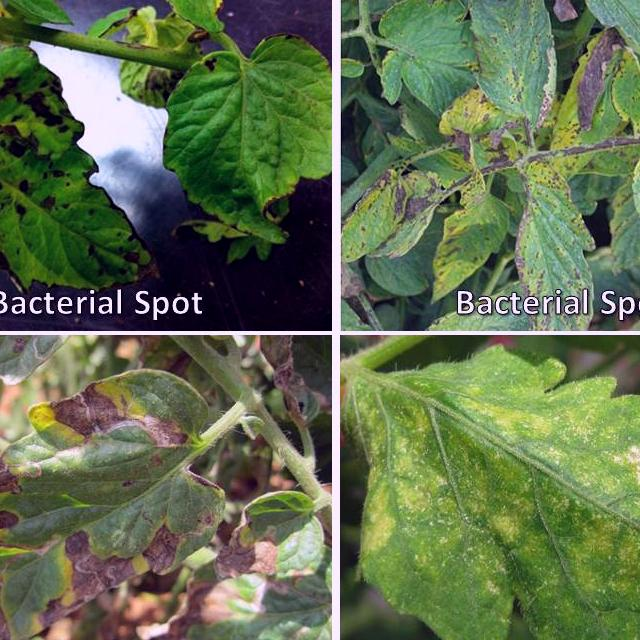Tomato leaf bacterial spot: (0, 363, 242, 640), (153, 22, 332, 286), (0, 34, 163, 312), (357, 0, 501, 118), (448, 0, 564, 144), (505, 147, 589, 328), (428, 155, 511, 322), (352, 167, 447, 280), (601, 37, 640, 144)
